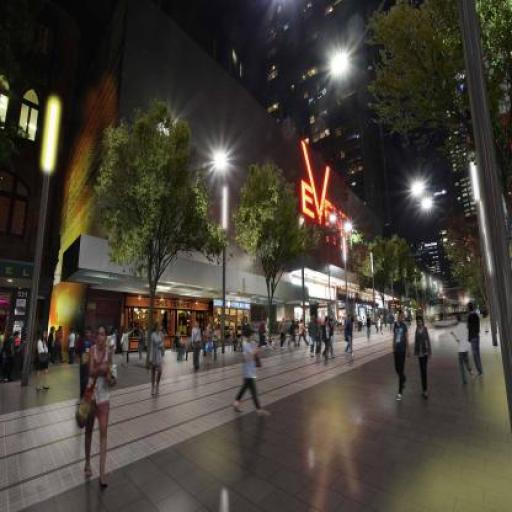street light: (330, 215, 352, 338)
